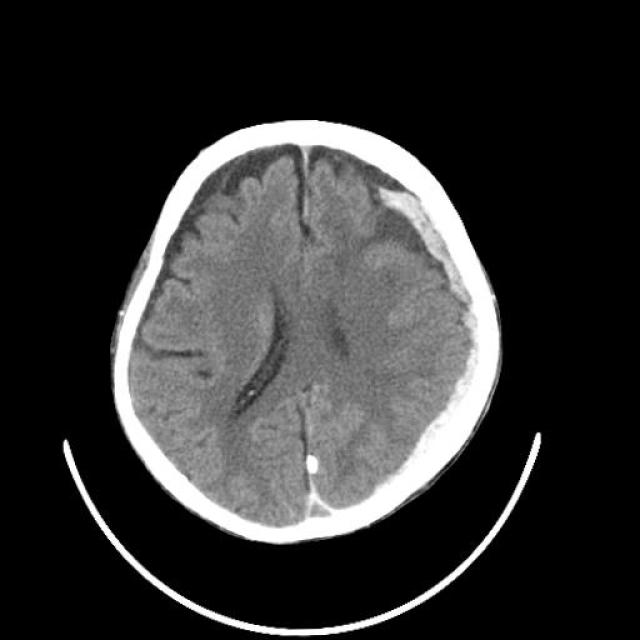Subdural: (342, 304, 542, 536), (359, 163, 499, 306)
